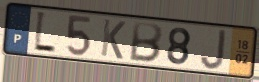5: (64, 14, 94, 58)
8: (167, 26, 192, 66)
B: (127, 20, 165, 64)
J: (198, 28, 227, 71)
K: (99, 17, 128, 62)
L: (32, 9, 58, 56)
